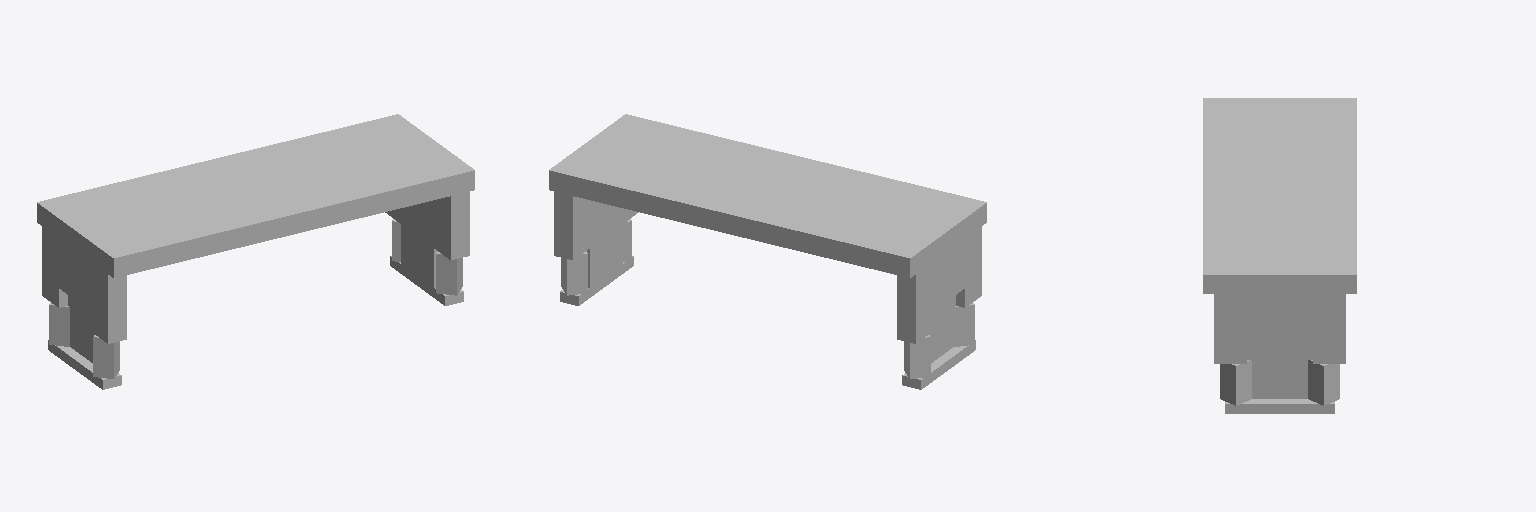
File: coilspring_frame.obj
3 renders of one model, left to right at view 1: azimuth 30°, elevation 25°; view 2: azimuth 150°, elevation 25°; view 3: azimuth 270°, elevation 25°, orthographic.
Visible parts, largest first — view 1: cube1, cube5, cube9, cube11, cube2, cube3, cube7, cube14, cube4, cube10, cube12, cube8; view 2: cube1, cube5, cube9, cube11, cube2, cube3, cube4, cube15, cube7, cube10, cube13, cube6; view 3: cube1, cube11, cube9, cube10, cube14, cube15, cube12, cube13.
Boxes of the visible parts, x1=… form: cube1: x1=37, y1=114, x2=474, y2=277; cube5: x1=42, y1=226, x2=126, y2=323; cube9: x1=401, y1=207, x2=436, y2=287; cube11: x1=406, y1=192, x2=469, y2=239; cube2: x1=68, y1=295, x2=94, y2=362; cube3: x1=48, y1=340, x2=121, y2=389; cube7: x1=93, y1=335, x2=119, y2=378; cube14: x1=436, y1=251, x2=462, y2=295; cube4: x1=49, y1=303, x2=69, y2=346; cube10: x1=390, y1=256, x2=463, y2=305; cube12: x1=434, y1=229, x2=469, y2=259; cube8: x1=92, y1=313, x2=126, y2=343; cube1: x1=549, y1=114, x2=986, y2=277; cube5: x1=897, y1=226, x2=981, y2=323; cube9: x1=587, y1=207, x2=622, y2=287; cube11: x1=554, y1=192, x2=617, y2=239; cube2: x1=929, y1=295, x2=955, y2=362; cube3: x1=902, y1=340, x2=975, y2=389; cube4: x1=904, y1=335, x2=930, y2=378; cube15: x1=561, y1=251, x2=587, y2=295; cube7: x1=954, y1=303, x2=974, y2=346; cube10: x1=560, y1=256, x2=633, y2=305; cube13: x1=554, y1=229, x2=589, y2=259; cube6: x1=897, y1=313, x2=931, y2=343; cube1: x1=1203, y1=98, x2=1356, y2=293; cube11: x1=1214, y1=294, x2=1345, y2=343; cube9: x1=1247, y1=344, x2=1312, y2=398; cube10: x1=1225, y1=399, x2=1334, y2=413; cube14: x1=1220, y1=360, x2=1251, y2=405; cube15: x1=1308, y1=360, x2=1339, y2=405; cube12: x1=1214, y1=344, x2=1246, y2=363; cube13: x1=1313, y1=344, x2=1345, y2=363.
Bounding box in the file's own units: 2.43 × 0.875 × 0.875.